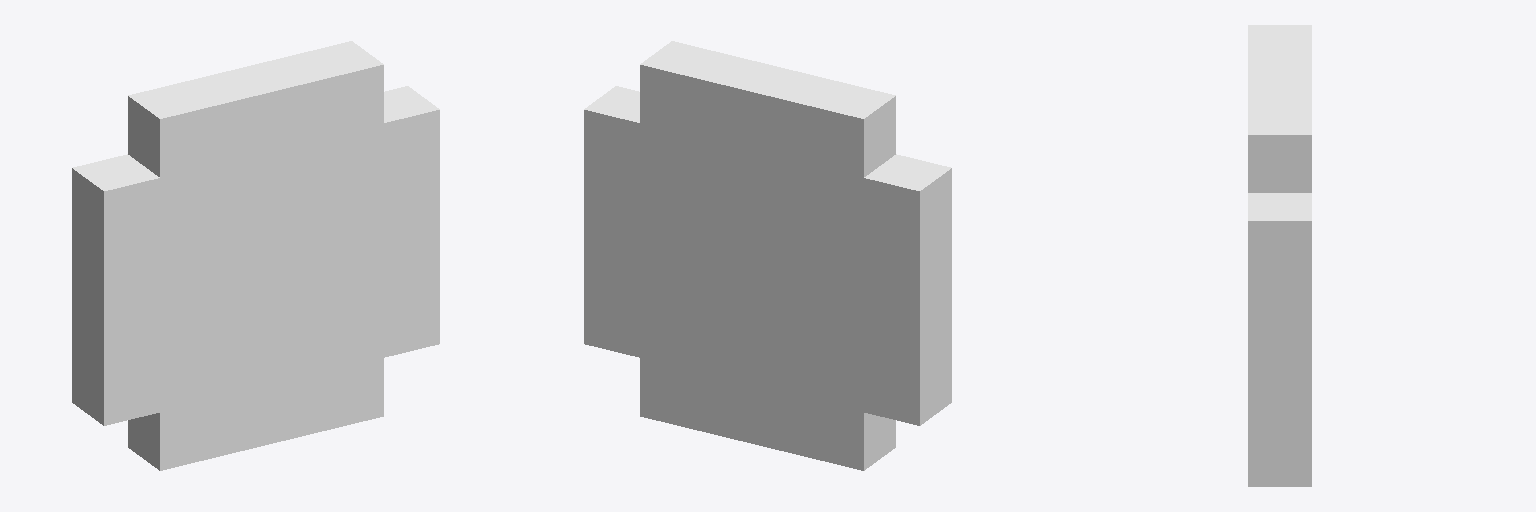
The model's file is mouth2.obj.
3 renders of one model, left to right at view 1: azimuth 30°, elevation 25°; view 2: azimuth 150°, elevation 25°; view 3: azimuth 270°, elevation 25°, orthographic.
Visible parts, largest first — view 1: object 1; view 2: object 1; view 3: object 1.
Part boxes in pixels (bbox=[...]): object 1: bbox=[72, 41, 439, 470]; object 1: bbox=[584, 41, 951, 470]; object 1: bbox=[1248, 25, 1311, 486].
Size of the model in its own units: 0.6 by 0.6 by 0.1.